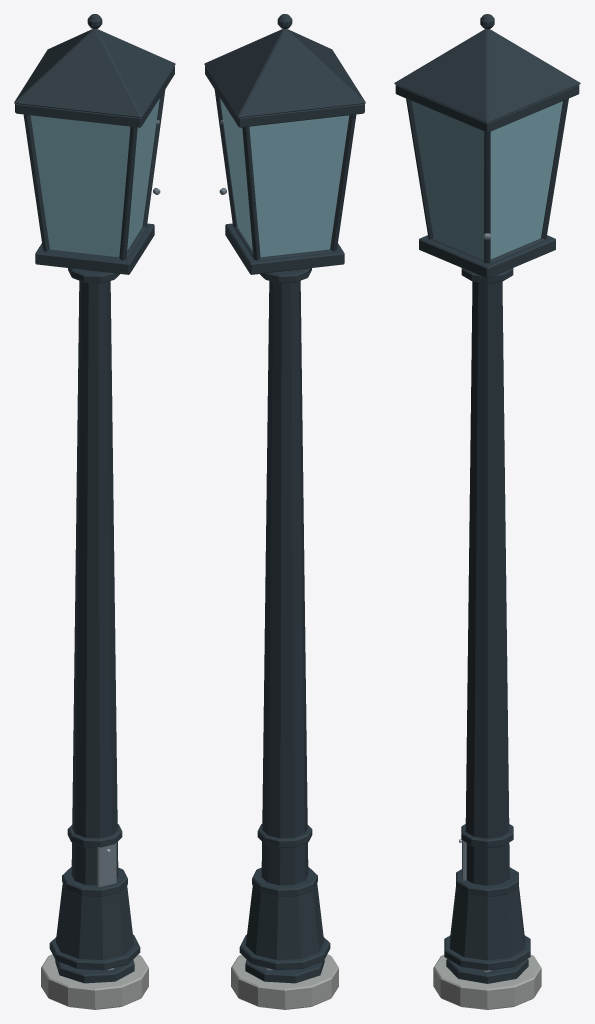
File: b18_tapered_lantern_avenue_lamp.glb
The picture shows the model from 3 angles, left to right: view 1: azimuth 30°, elevation 25°; view 2: azimuth 150°, elevation 25°; view 3: azimuth 270°, elevation 25°; orthographic projection.
Visible parts, largest first — view 1: b18_tapered_lantern_avenue_lamp; view 2: b18_tapered_lantern_avenue_lamp; view 3: b18_tapered_lantern_avenue_lamp.
Part boxes in pixels (x1=…): b18_tapered_lantern_avenue_lamp: x1=14, y1=14, x2=175, y2=1009; b18_tapered_lantern_avenue_lamp: x1=204, y1=14, x2=365, y2=1009; b18_tapered_lantern_avenue_lamp: x1=394, y1=14, x2=580, y2=1009.
Size of the model in its own units: 0.7219 by 4.16 by 0.7219.
